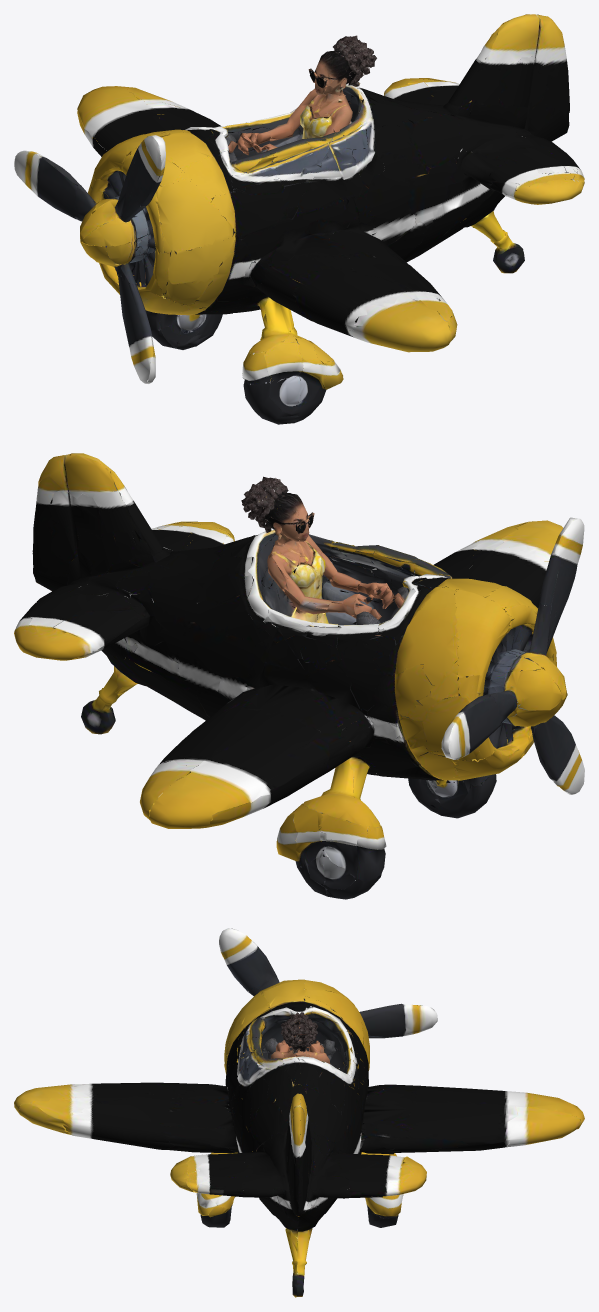
3 renders of one model, top to bottom at view 1: azimuth 30°, elevation 25°; view 2: azimuth 150°, elevation 25°; view 3: azimuth 270°, elevation 25°, orthographic. The views are drawn at different scales.
Visible parts, largest first — view 1: Mesh_0; view 2: Mesh_0; view 3: Mesh_0.
Part boxes in pixels (x1=…): Mesh_0: x1=14, y1=14, x2=584, y2=424; Mesh_0: x1=14, y1=453, x2=584, y2=899; Mesh_0: x1=14, y1=928, x2=584, y2=1297.
Size of the model in its own units: 3.6 by 2.23 by 4.52.
1 material, 1 textured.
